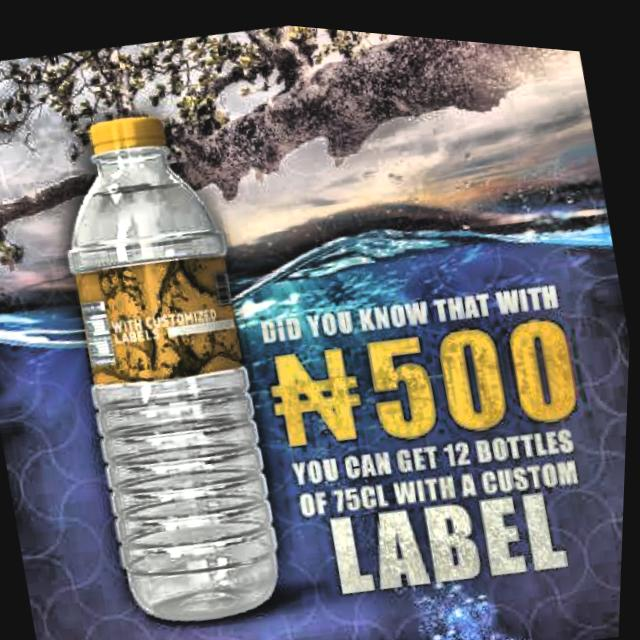Bottles: (24, 65, 319, 640)
